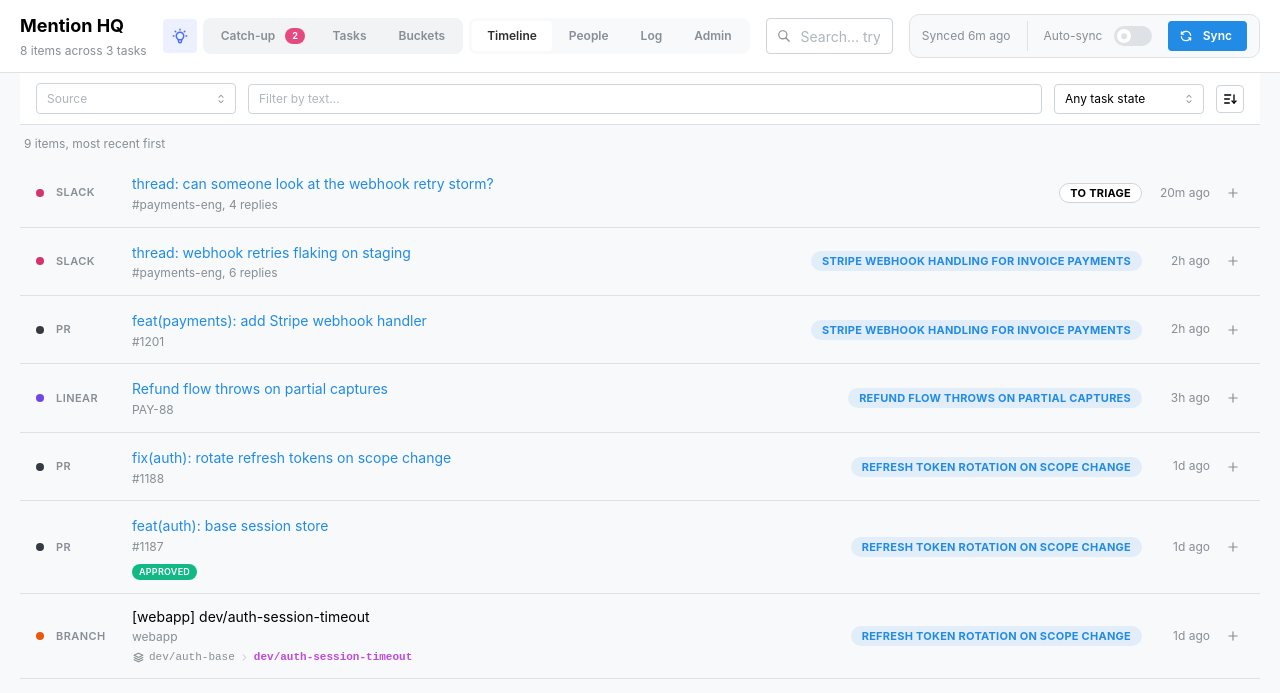
it: TimelineView › filters rows by the column text box
The width and height of the screenshot is (1280, 693).
Type "webhook retry storm" into the field labelled "Filter by text" at [645, 99], box [248,84,1042,114]
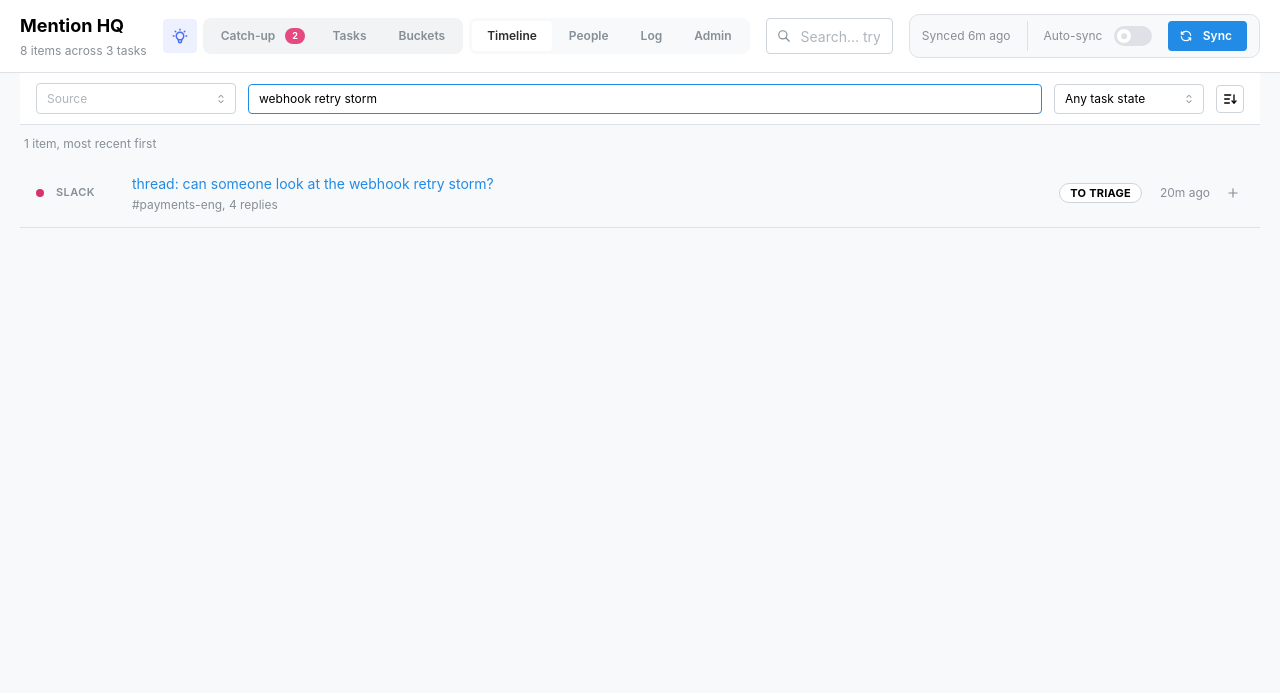
Check: the number of elements with test id "timeline-row" is 1, box [20,159,1260,228]
